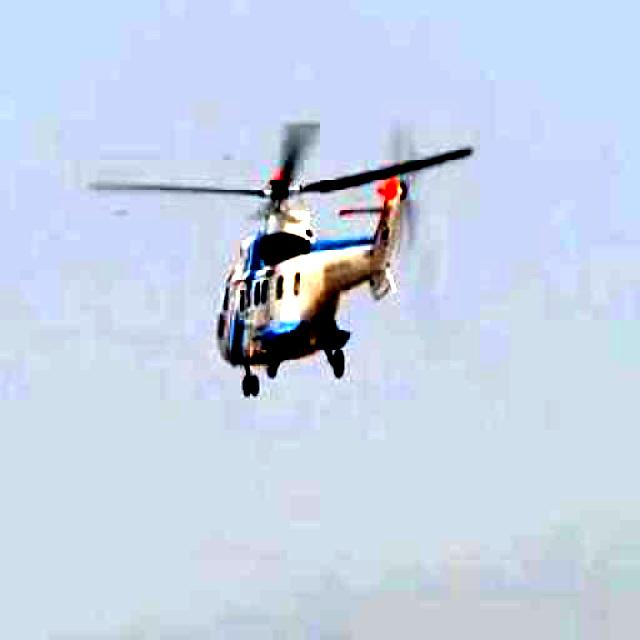drone: (102, 110, 481, 406)
